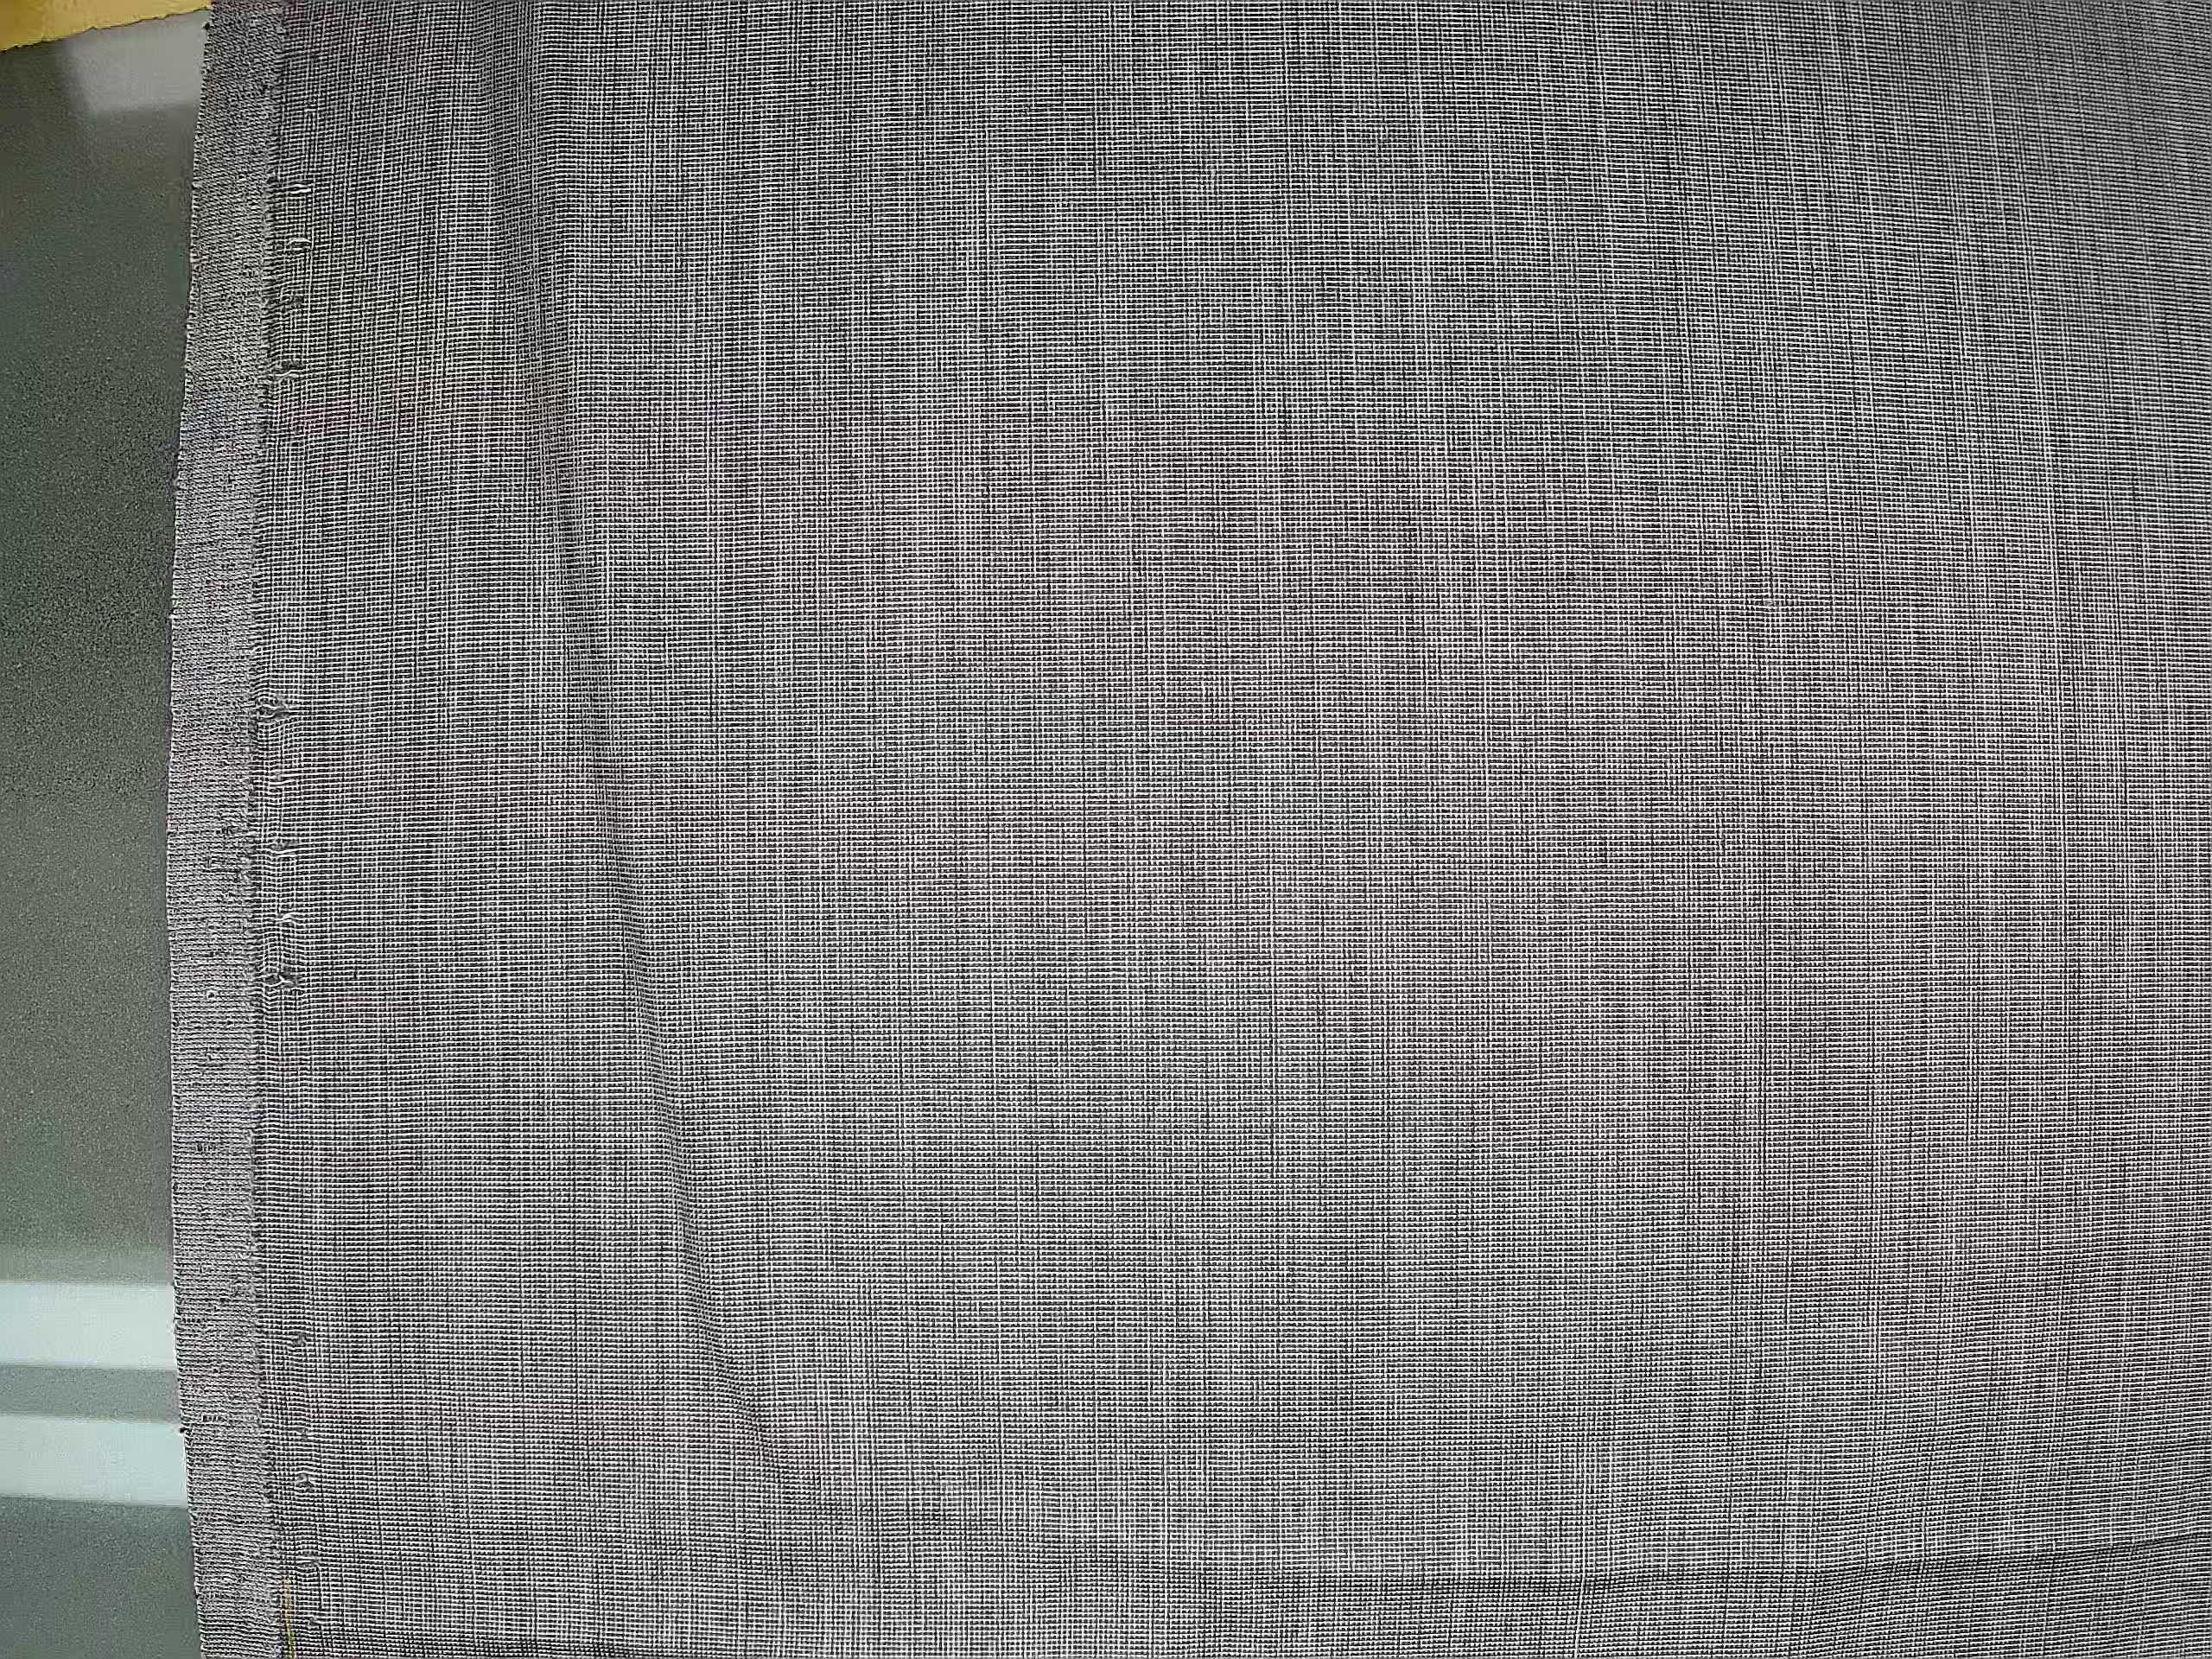hole: (235, 678, 322, 1009), (280, 35, 333, 418)
